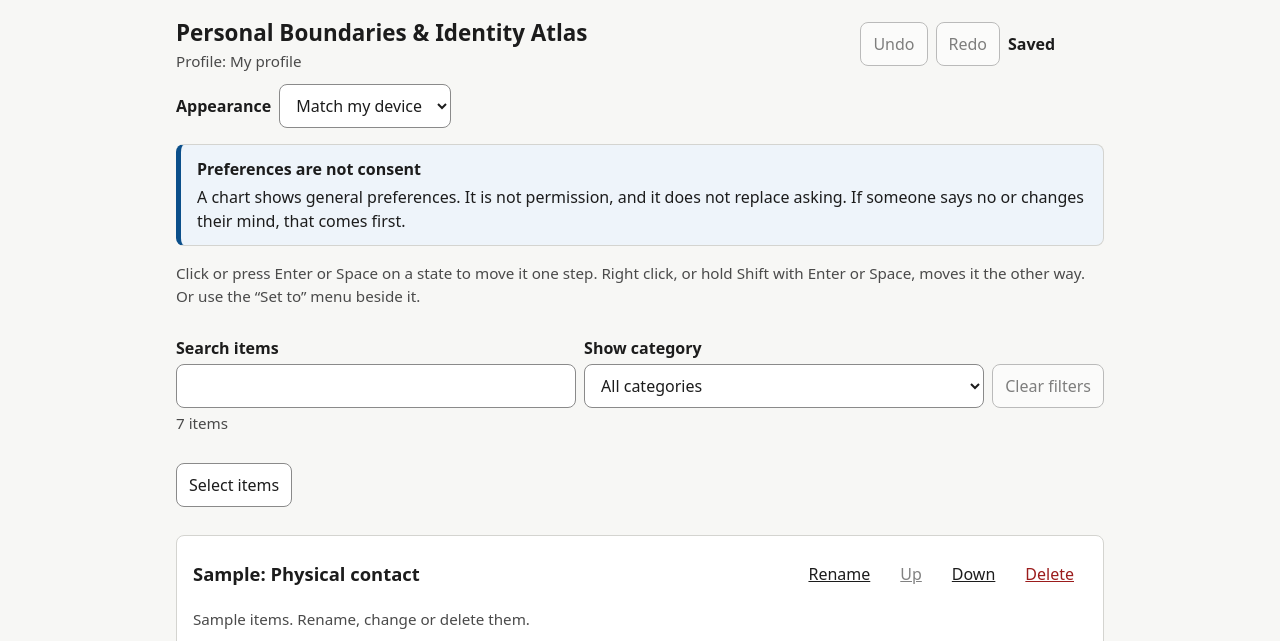
Test: selecting items (M2-07) › shows no checkboxes until selecting is turned on
Expected: the heading "Personal Boundaries & Identity Atlas" is shown, [176,16,588,50]
What coordinates should you click on to do the following:
click the button "Select items"
I would click on:
 (234, 485)
Its box is [176,463,292,507].
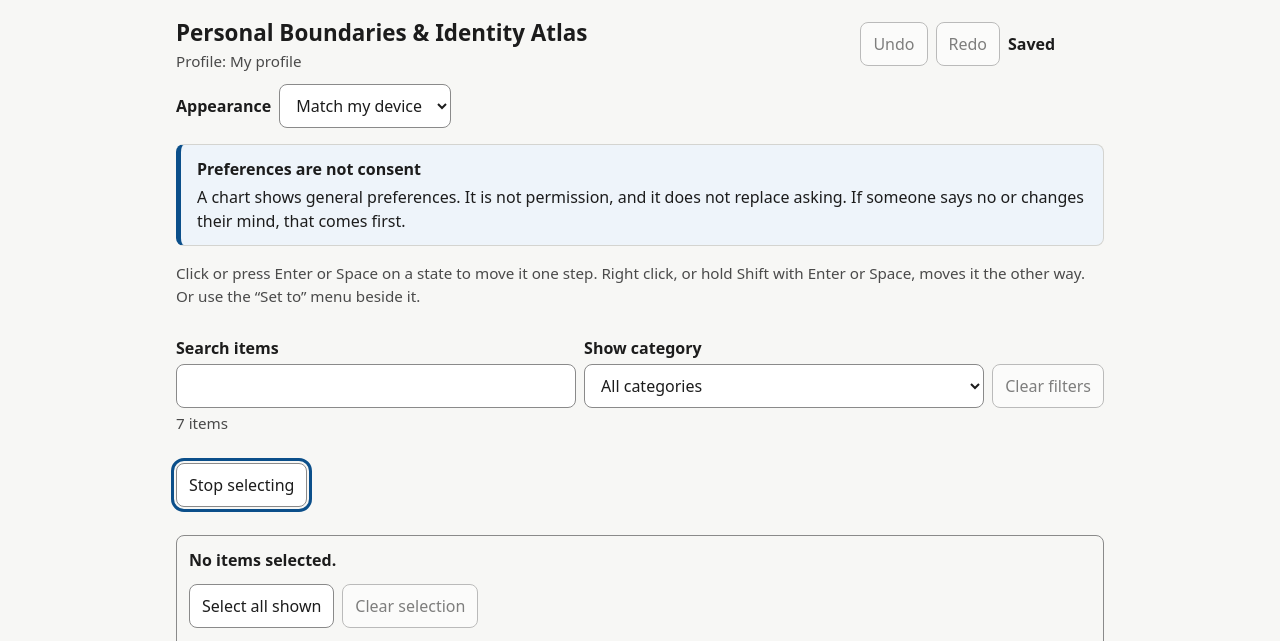
Expected: the message with class "bulk-count" reads "No items selected.", [189,549,336,571]
